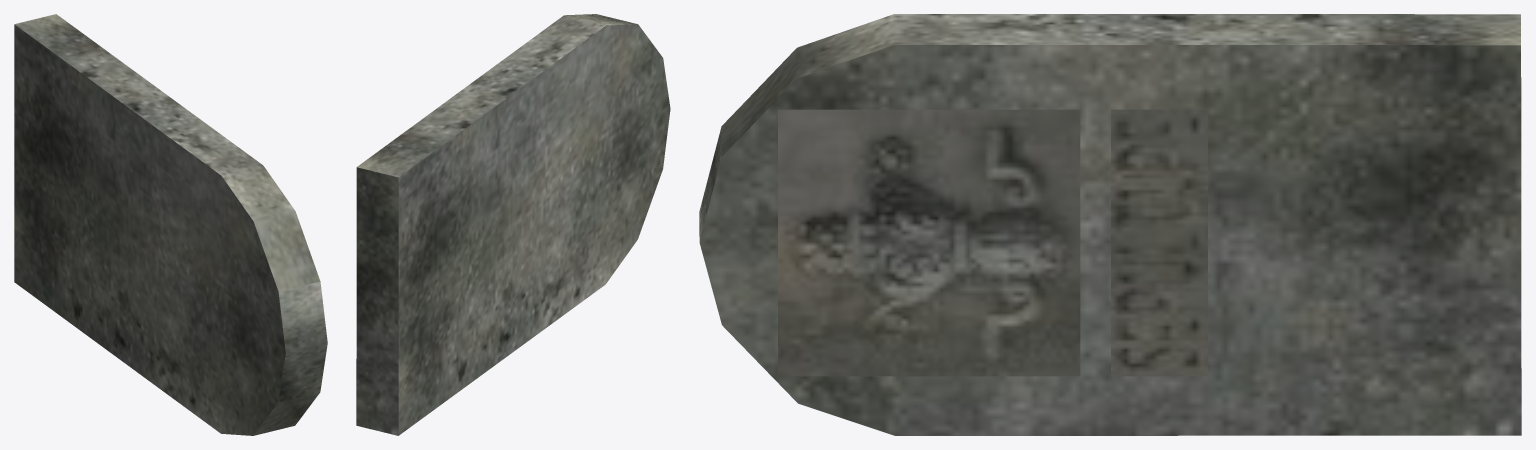
Rendered from prop_tombstone6.glb.
3 renders of one model, left to right at view 1: azimuth 30°, elevation 25°; view 2: azimuth 150°, elevation 25°; view 3: azimuth 270°, elevation 25°, orthographic. The views are drawn at different scales.
Size of the model in its own units: 4.18 by 22.45 by 42.78.
Materials: 1 (1 with a texture image).
